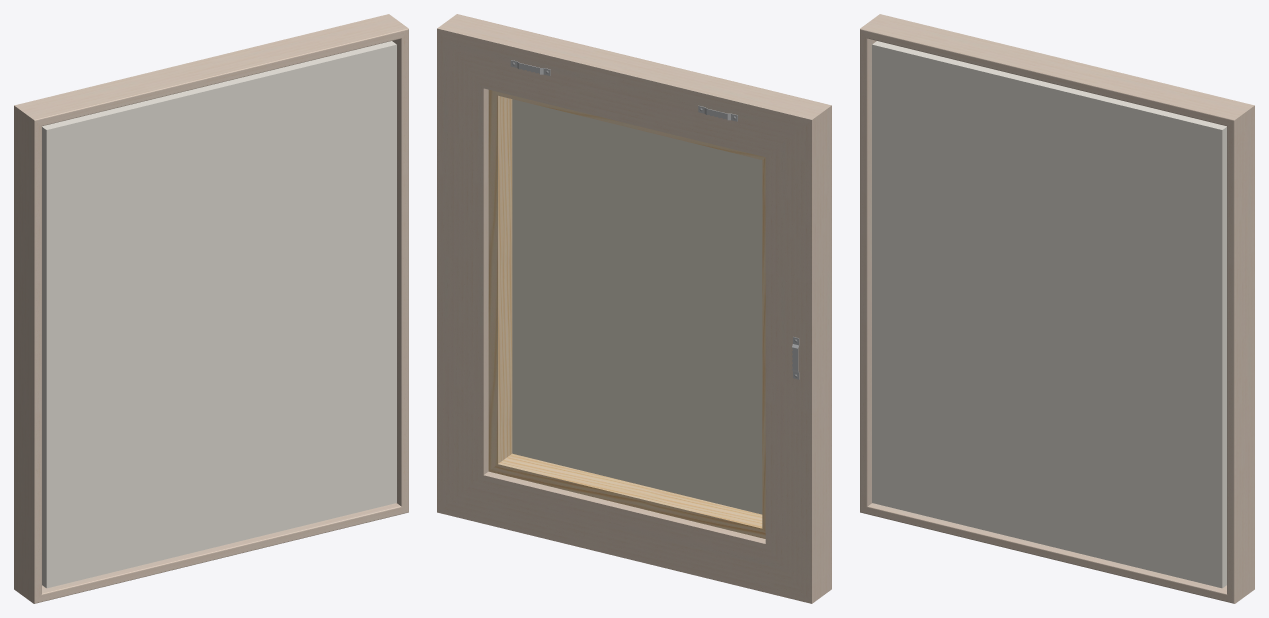
The model's file is delivery.glb.
The picture shows the model from 3 angles, left to right: view 1: azimuth 30°, elevation 25°; view 2: azimuth 150°, elevation 25°; view 3: azimuth 330°, elevation 25°; orthographic projection.
Visible parts, largest first — view 1: Canvas artwork front, Tray approved profile 0; view 2: Tray approved profile 0, Canvas linen reverse, Stretcher top, Sawtooth hanger 0; view 3: Canvas artwork front, Tray approved profile 0.
Part boxes in pixels (bbox=[...]): Canvas artwork front: bbox=[42, 41, 396, 588]; Tray approved profile 0: bbox=[14, 14, 408, 603]; Tray approved profile 0: bbox=[437, 14, 831, 603]; Canvas linen reverse: bbox=[512, 99, 762, 514]; Stretcher top: bbox=[488, 90, 765, 538]; Sawtooth hanger 0: bbox=[510, 60, 799, 379]; Canvas artwork front: bbox=[872, 41, 1226, 588]; Tray approved profile 0: bbox=[860, 14, 1254, 603].
Size of the model in its own units: 0.428 by 0.528 by 0.0424.
7 materials, 3 textured.
